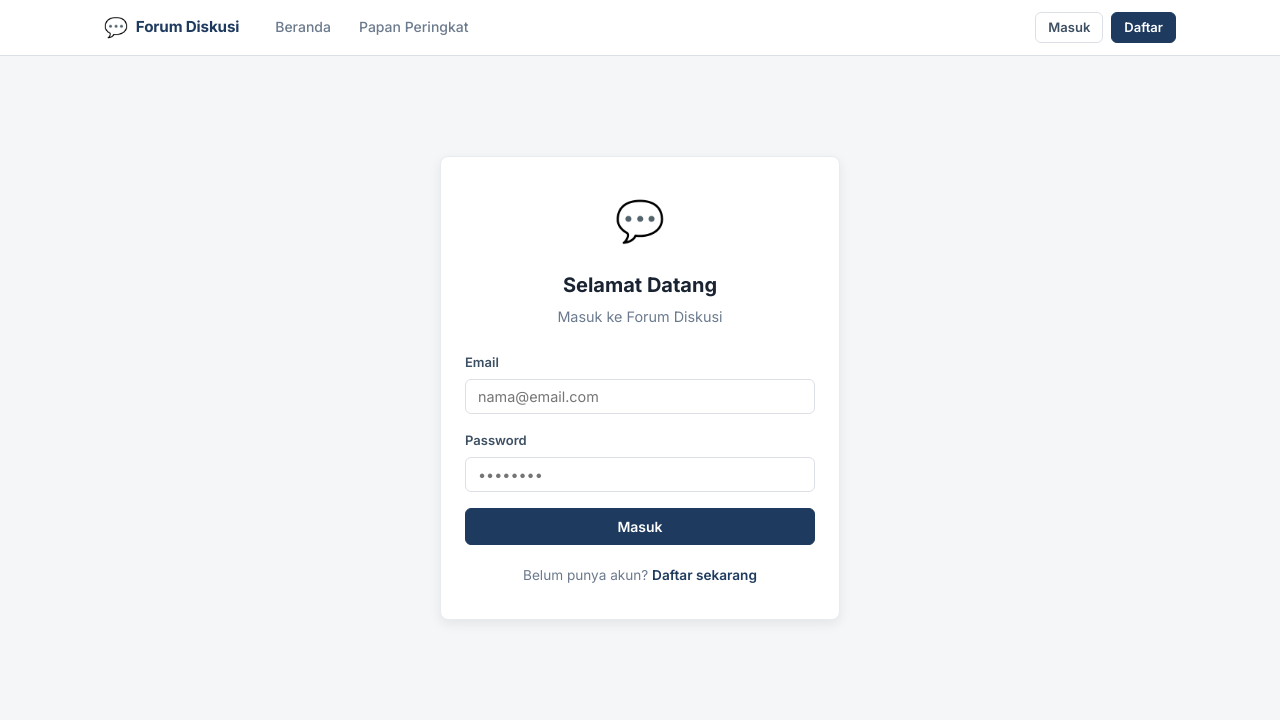
Login Flow › should show logged-in user name in navbar after login
Type "testuser@forum.dev" into the field labelled "Email" at (640, 397), box [465, 379, 815, 414]
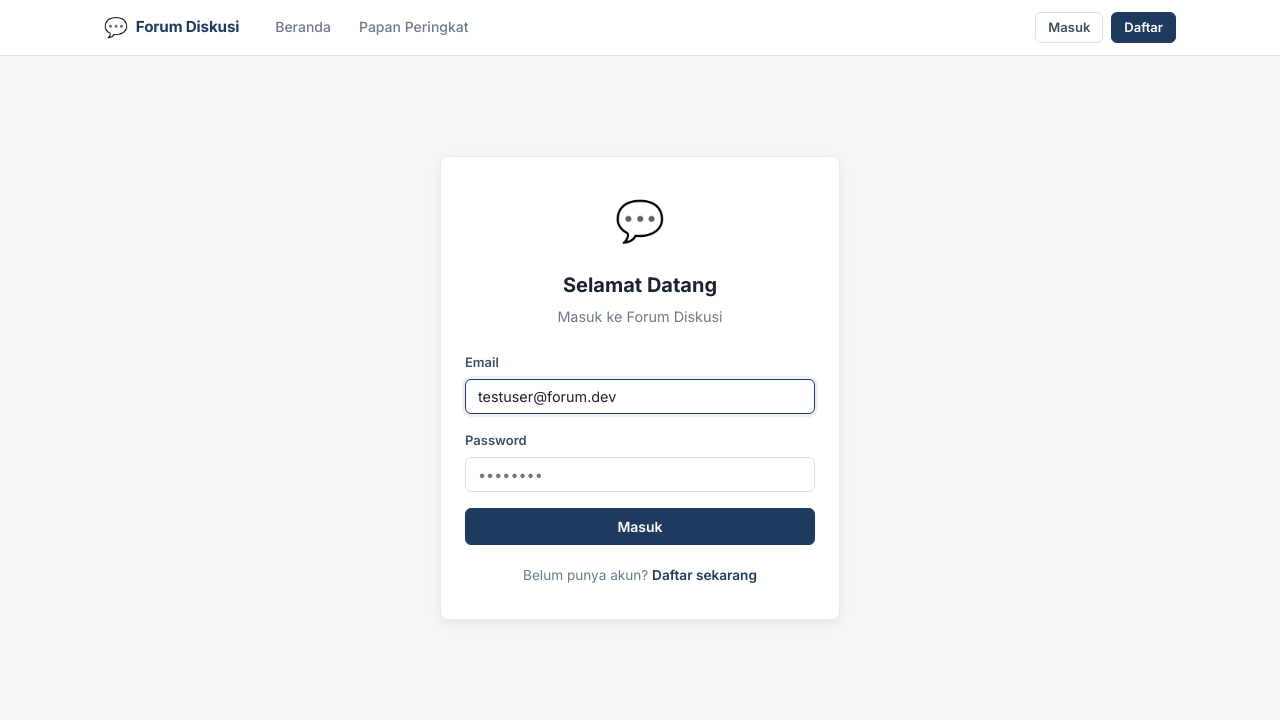
Type "testpassword123" into the password field labelled "Password" at (640, 475), box [465, 457, 815, 492]
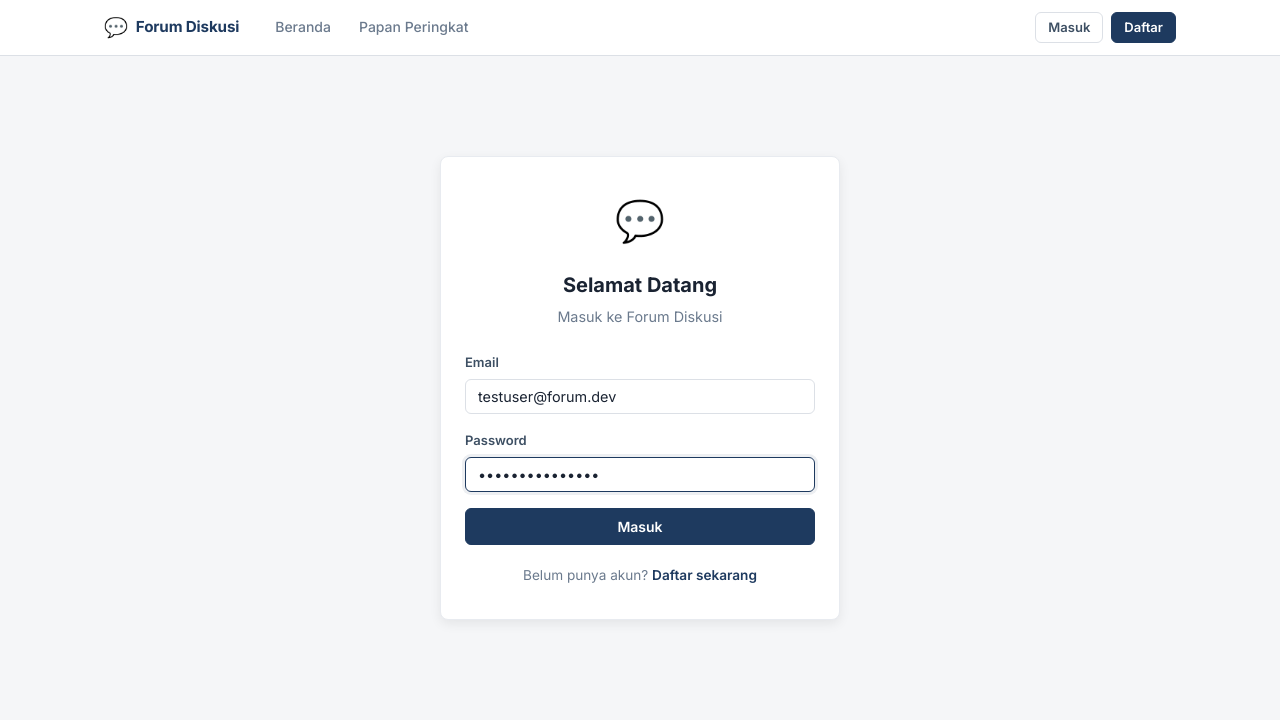
Click the submit button at (640, 527), box [465, 508, 815, 546]
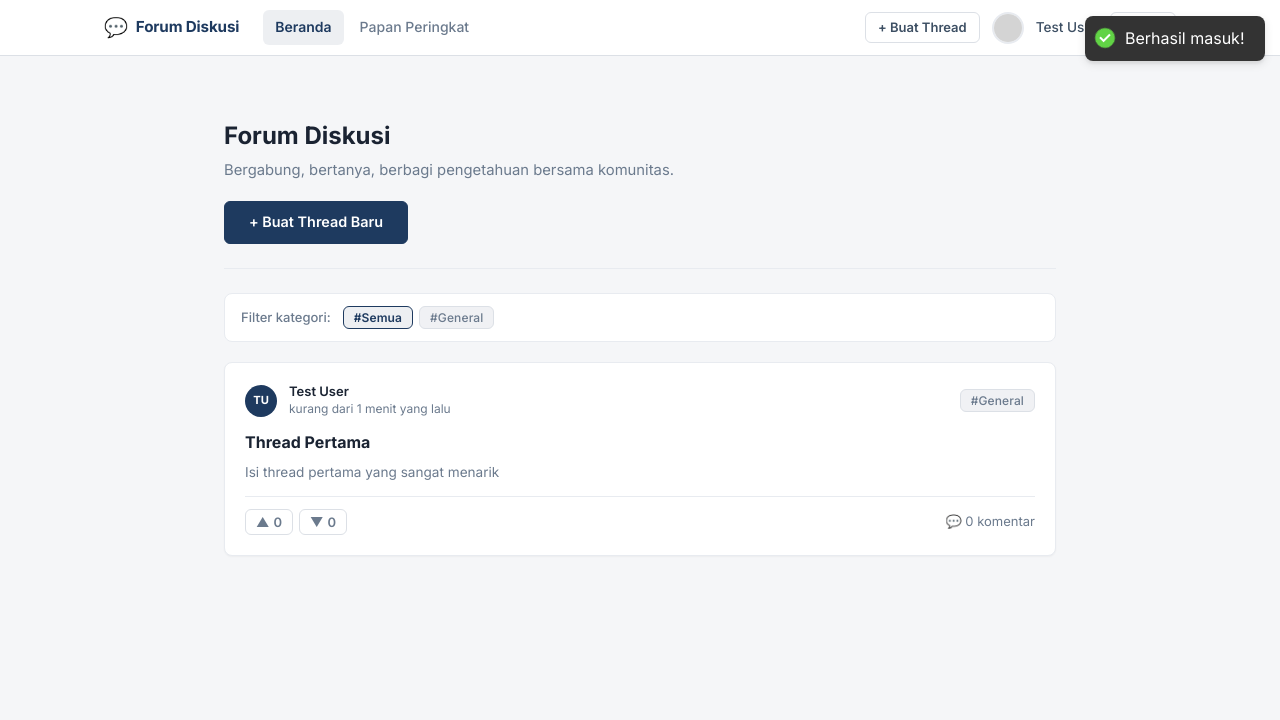
Now the text with class "navbar__username" is shown, box [1036, 17, 1098, 39]
Now the text with class "navbar__username" reads "Test User", box [1036, 19, 1098, 35]
